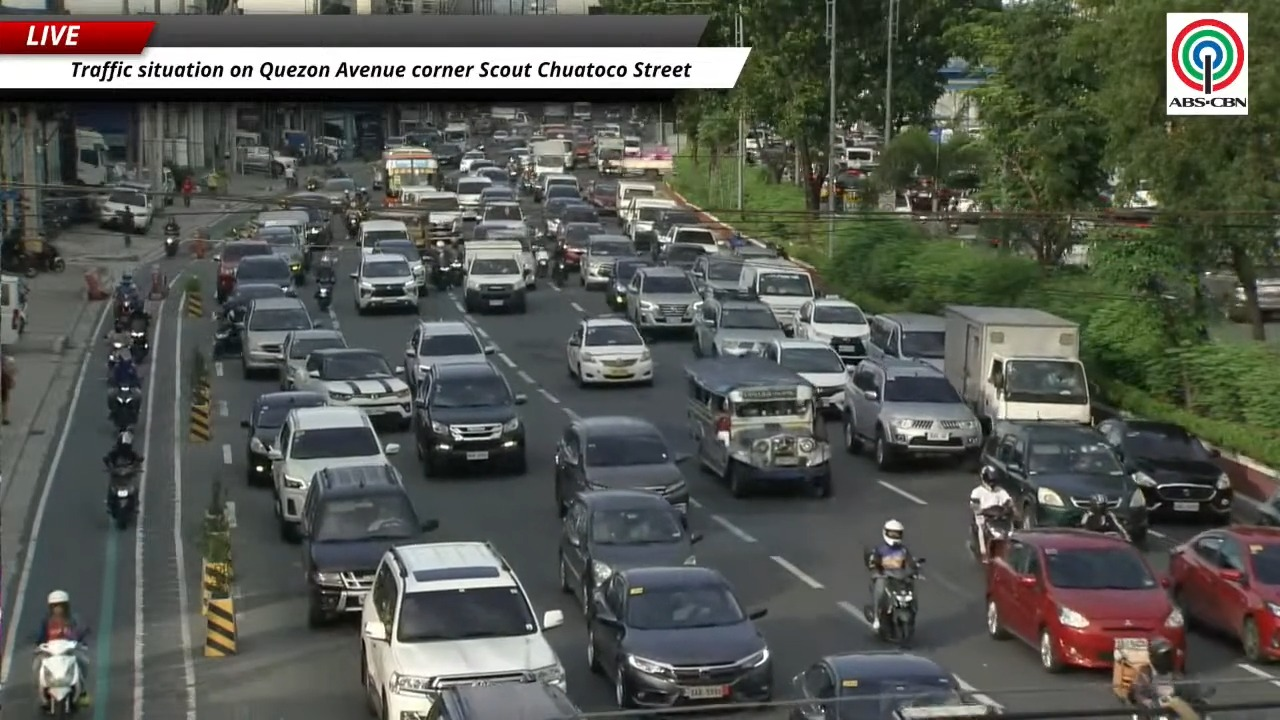bus: (382, 147, 438, 204)
car: (361, 542, 564, 718), (986, 528, 1185, 671), (586, 566, 772, 708), (300, 463, 438, 627), (981, 421, 1148, 543), (558, 490, 701, 615), (269, 406, 398, 541), (842, 358, 981, 470), (1169, 525, 1279, 662), (1097, 418, 1233, 523), (788, 651, 993, 719), (554, 416, 689, 516), (413, 359, 526, 476), (295, 347, 411, 428), (241, 391, 326, 485), (760, 338, 847, 411), (566, 316, 653, 385), (240, 297, 314, 378), (405, 320, 495, 386), (738, 259, 816, 333), (428, 682, 584, 719), (693, 299, 785, 356), (793, 297, 869, 366), (625, 267, 699, 333), (463, 243, 532, 313), (215, 241, 293, 302), (866, 313, 944, 369), (279, 328, 347, 390), (351, 254, 418, 314), (362, 238, 427, 296), (252, 226, 306, 284), (579, 234, 634, 288), (282, 193, 331, 249), (220, 283, 290, 321), (414, 190, 462, 245), (99, 186, 154, 233), (605, 258, 651, 311), (555, 223, 607, 269), (690, 254, 743, 297), (623, 197, 678, 238), (547, 196, 600, 235), (540, 195, 588, 237), (658, 225, 719, 252), (654, 243, 712, 271), (356, 218, 411, 247), (455, 176, 491, 220), (479, 194, 524, 228), (317, 177, 358, 211), (653, 207, 701, 236), (534, 173, 580, 201), (472, 218, 529, 240), (471, 160, 508, 188), (587, 181, 617, 214), (544, 184, 588, 204), (730, 243, 779, 259), (459, 150, 487, 173)
motorcycle: (877, 558, 924, 646), (35, 639, 85, 718), (1128, 678, 1215, 719), (968, 506, 1012, 563), (1079, 494, 1130, 541), (107, 465, 137, 530), (109, 385, 139, 431), (212, 320, 241, 357), (130, 329, 150, 363), (106, 340, 124, 376), (115, 295, 140, 318), (315, 283, 333, 312), (551, 257, 567, 288), (534, 247, 549, 277), (344, 210, 361, 234), (164, 234, 179, 257)
truck: (944, 305, 1091, 431), (75, 127, 109, 186), (530, 139, 575, 171), (619, 154, 673, 178), (596, 137, 623, 174), (543, 103, 570, 122)
